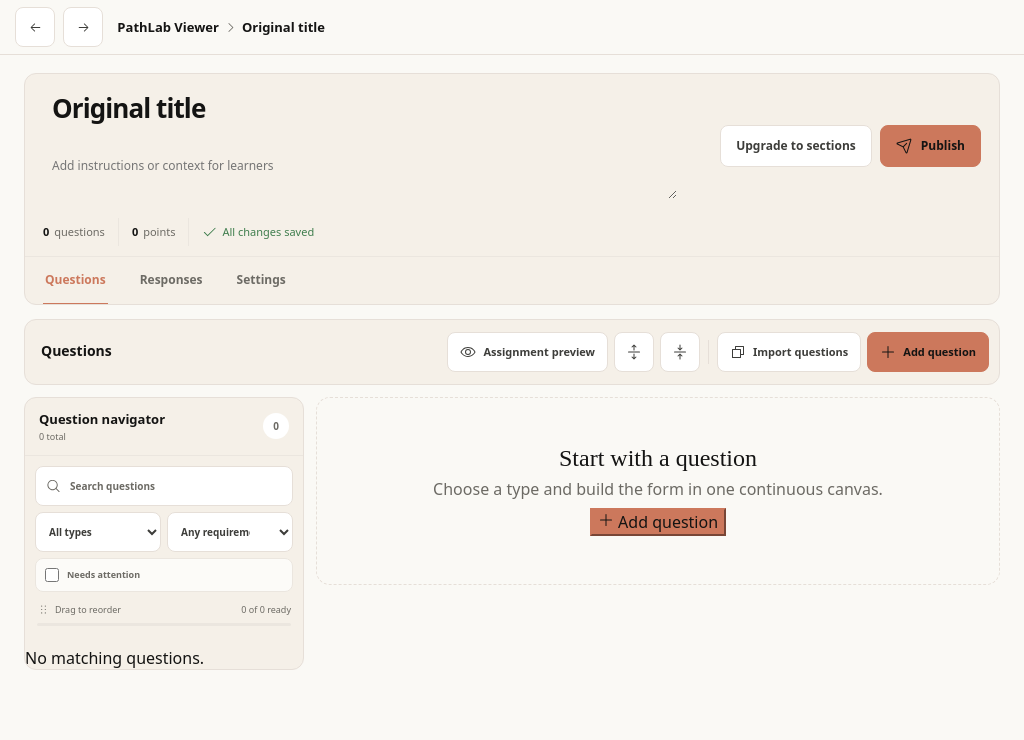
Test: retains edits made after dismissing a pending import and drains them after its acknowledgment
This screenshot has width=1024, height=740.
Check: the text "All changes saved" is shown, box [188,218,327,246]
Click the button "Import questions" at (789, 352), box [717,332,861,372]
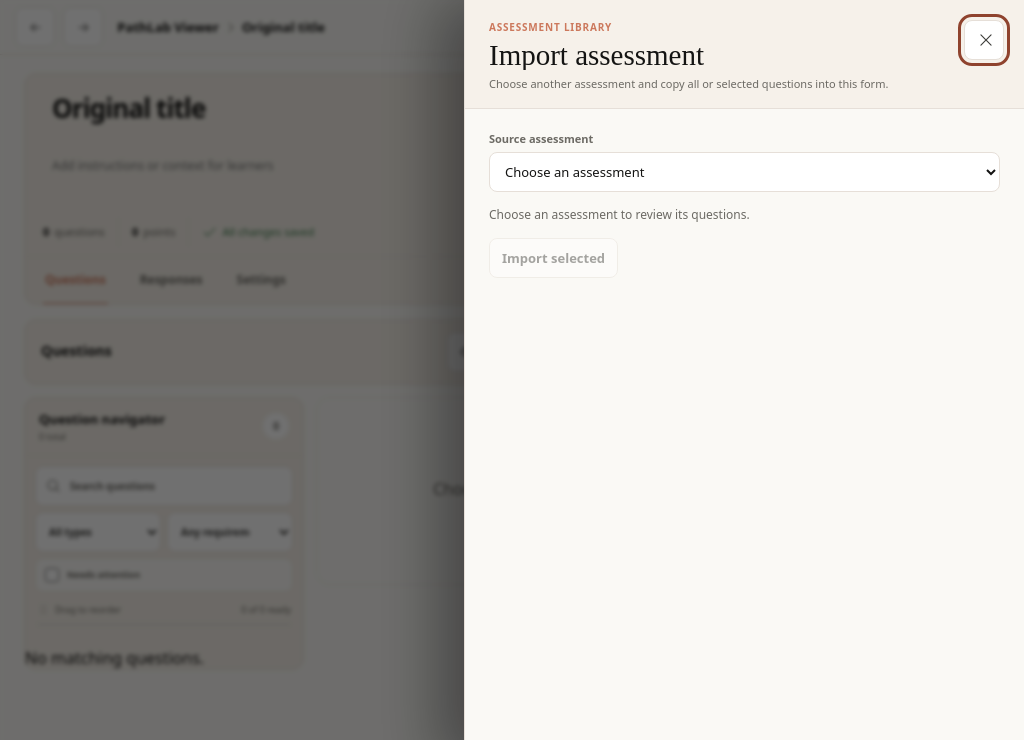
Select "Source" in the dropdown labelled "Source assessment" at (744, 172), box [489,152,1000,192]
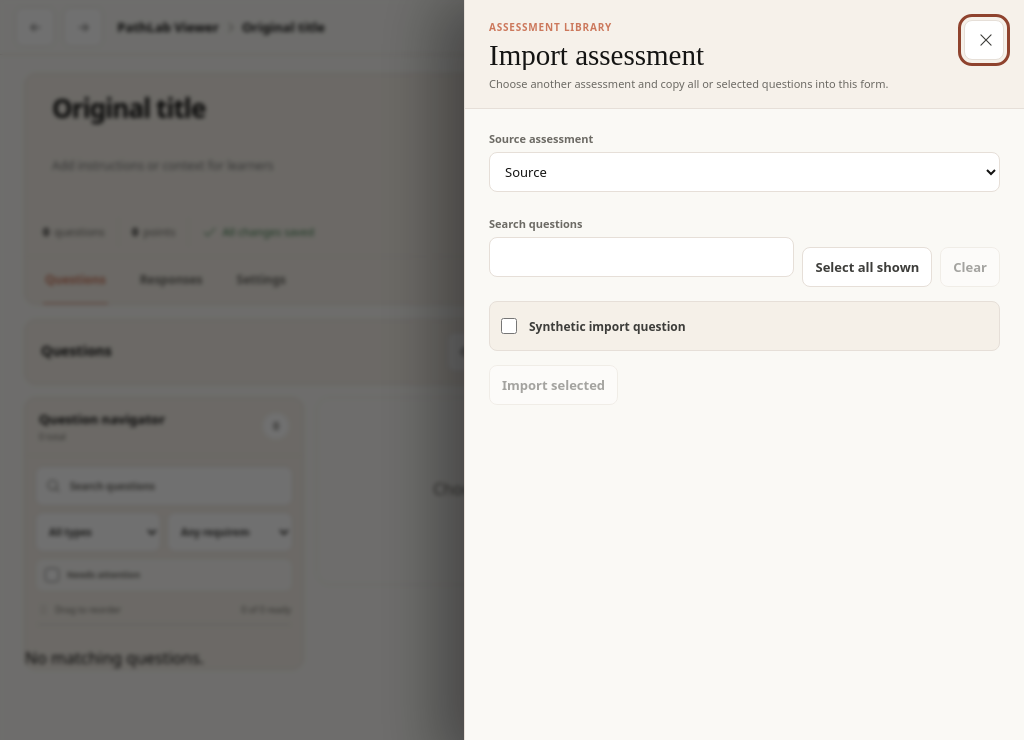
Click the button "Select all shown" at (867, 267), box [802,247,932,287]
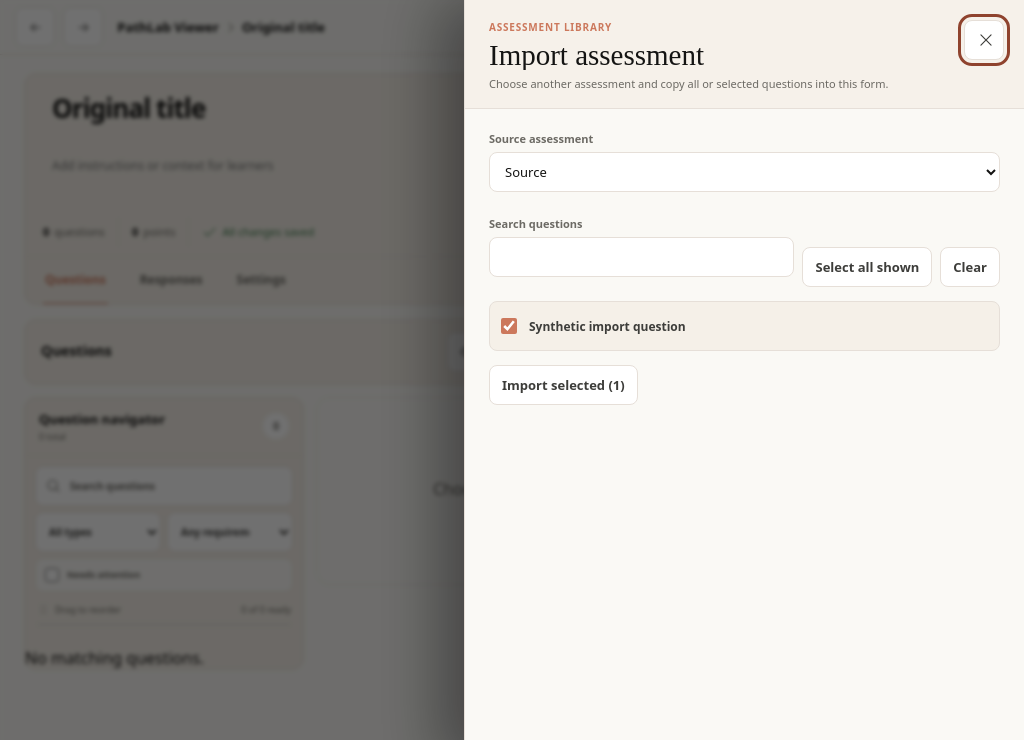
Click the button "Import selected (1)" at (563, 385), box [489,365,638,405]
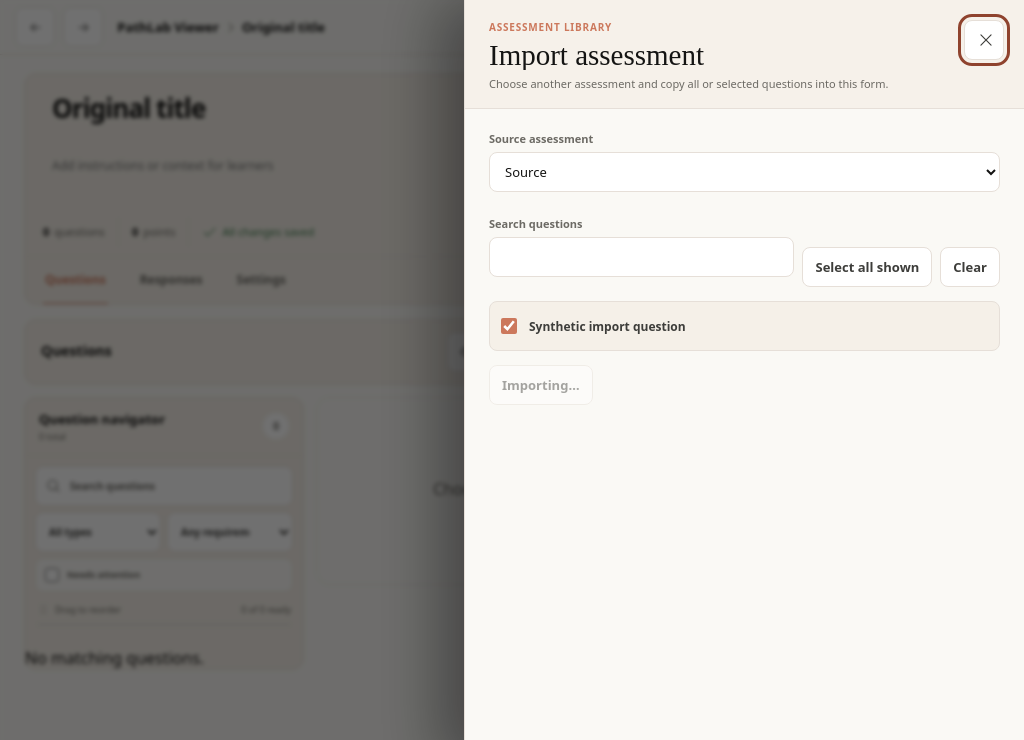
Click the button named "Close import" at (984, 40), box [964,20,1004,60]
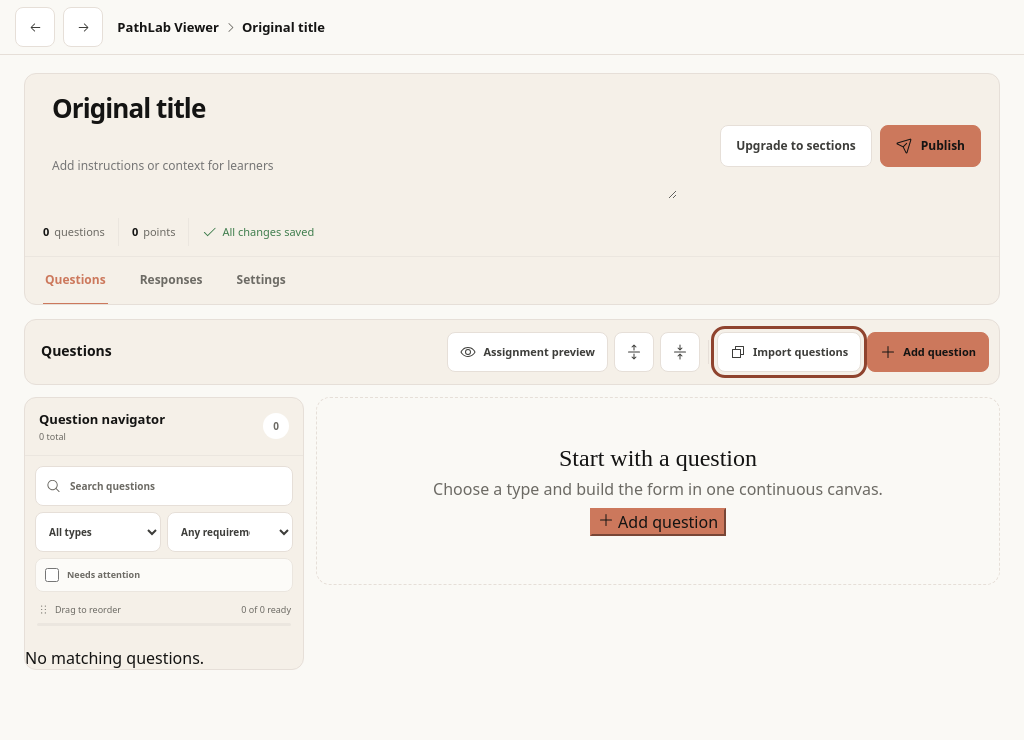
Replace the text in the text box named "Assessment name" with "Edit during import" at (361, 115), box [43,89,678,141]
Wait 1500 ms
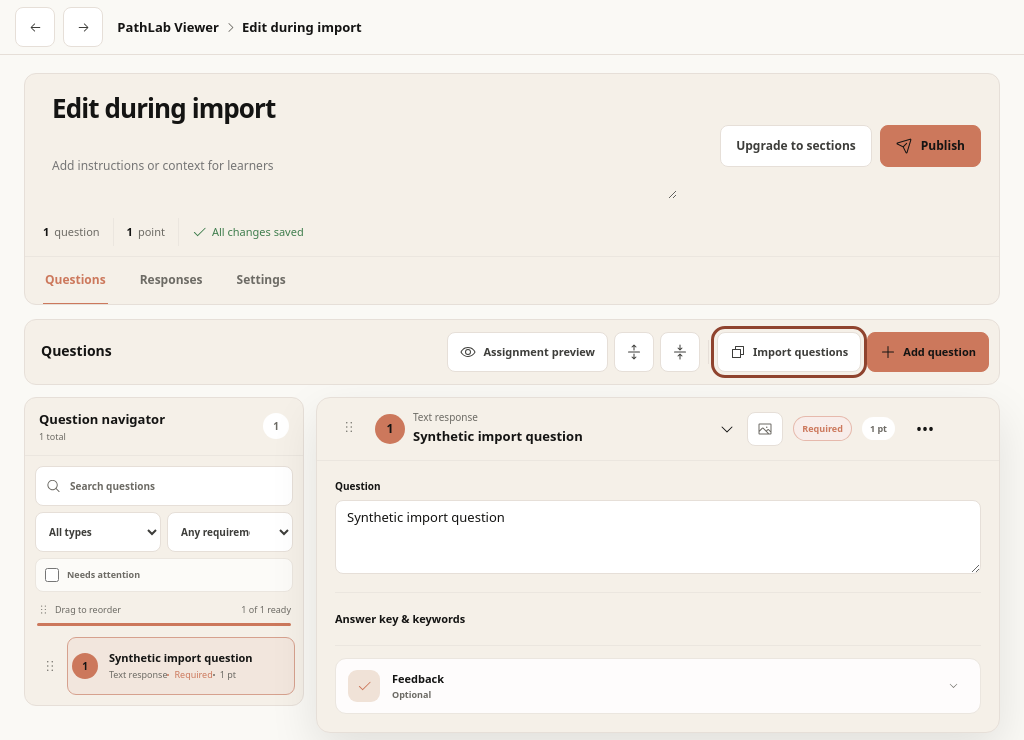
Check: the element named "Question 1" is shown, box [316,397,1000,733]
